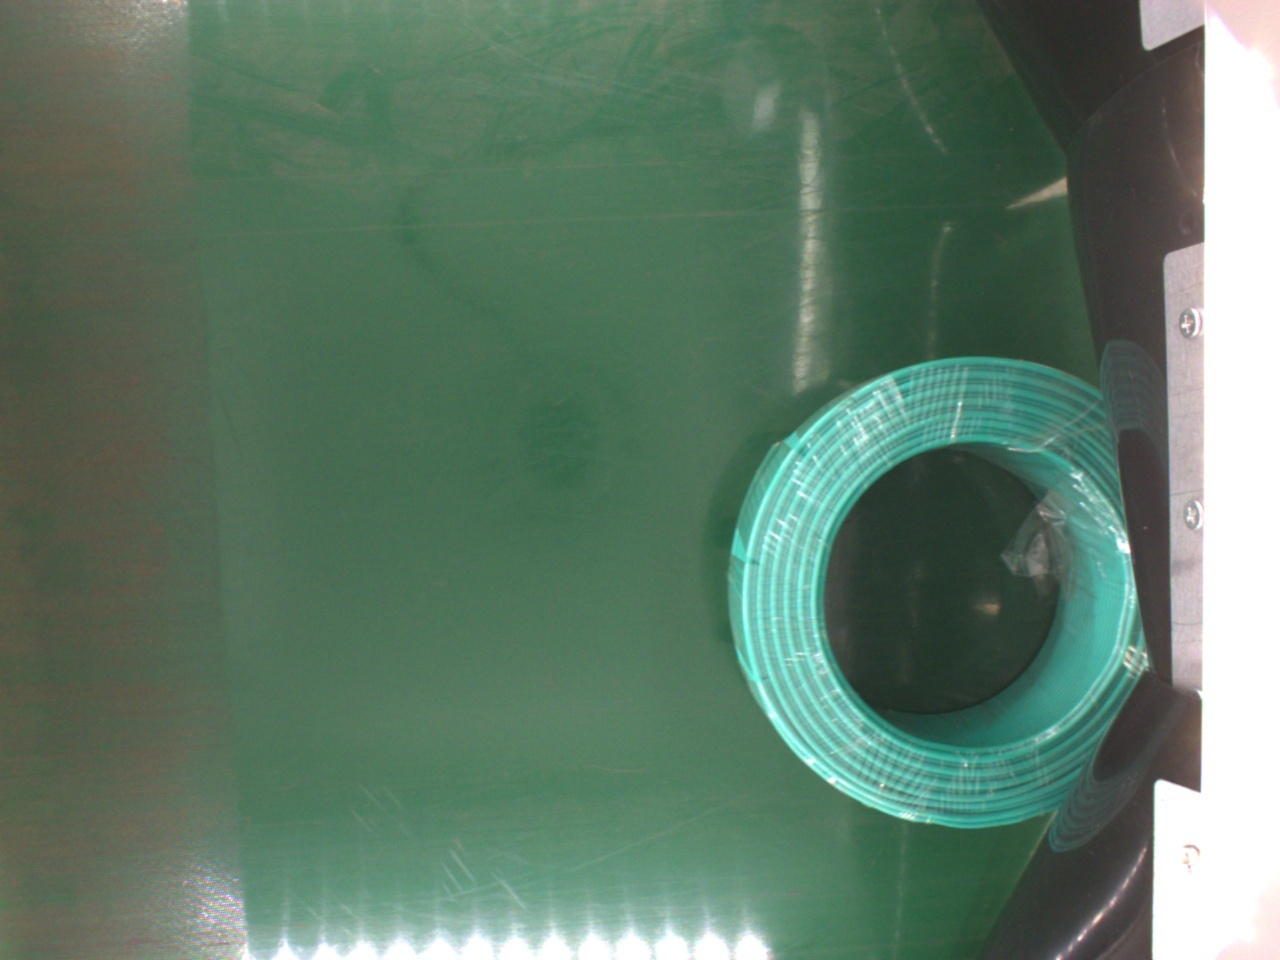green: (726, 357, 1135, 833)
